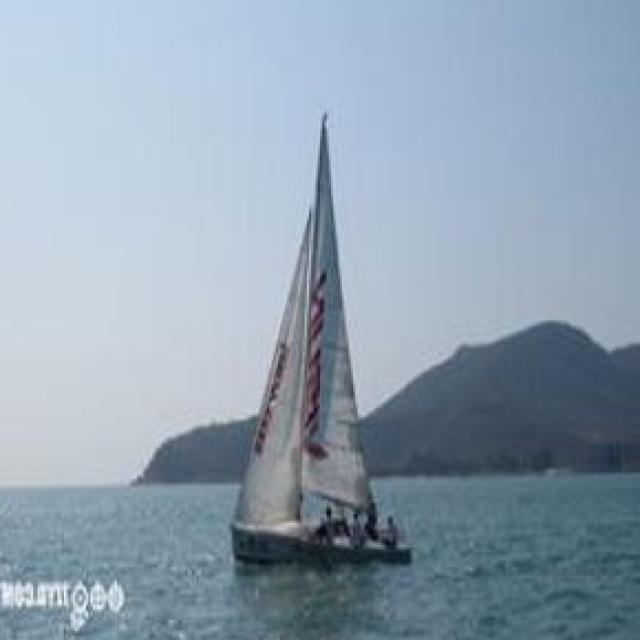sailboat: (230, 109, 414, 568)
